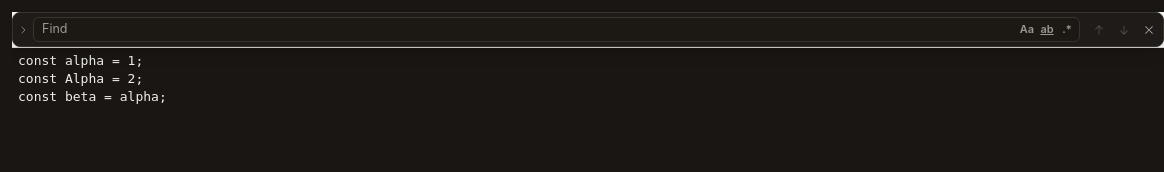
the match counter › narrows when match-case is on
In the field labelled "Find": (529, 30) [42,20,1016,39], type "alpha"
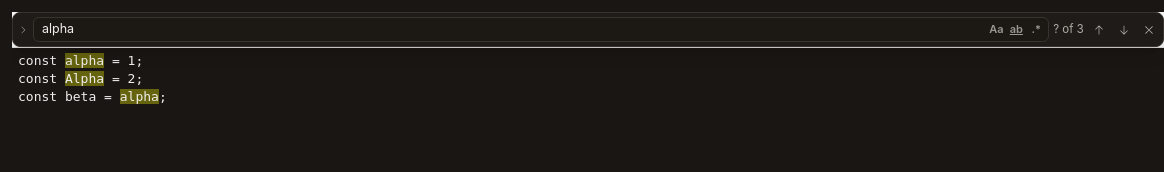
Click the button with aria-label "Match case": (996, 30) [987,20,1005,38]
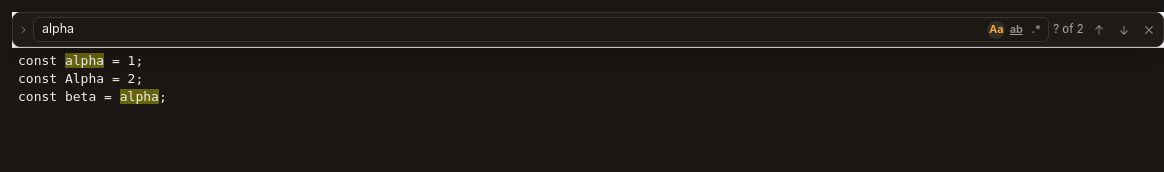
Now the text "? of 2" is shown, box [1053,21,1084,38]
